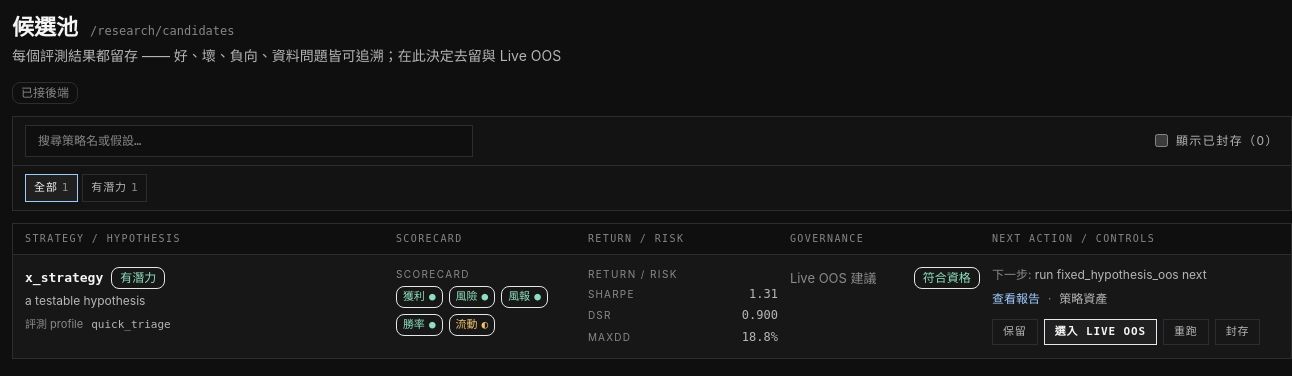
Scenario: CandidatePoolPage — api mode (real mutations) › eligible Select Live OOS → POST /select-live-oos {override:false} without a reason dialog
The width and height of the screenshot is (1292, 376).
Expected: the heading "x_strategy" is shown, [25,269,103,288]
Click the button "選入 Live OOS" at (1100, 332), box [1044,319,1157,345]
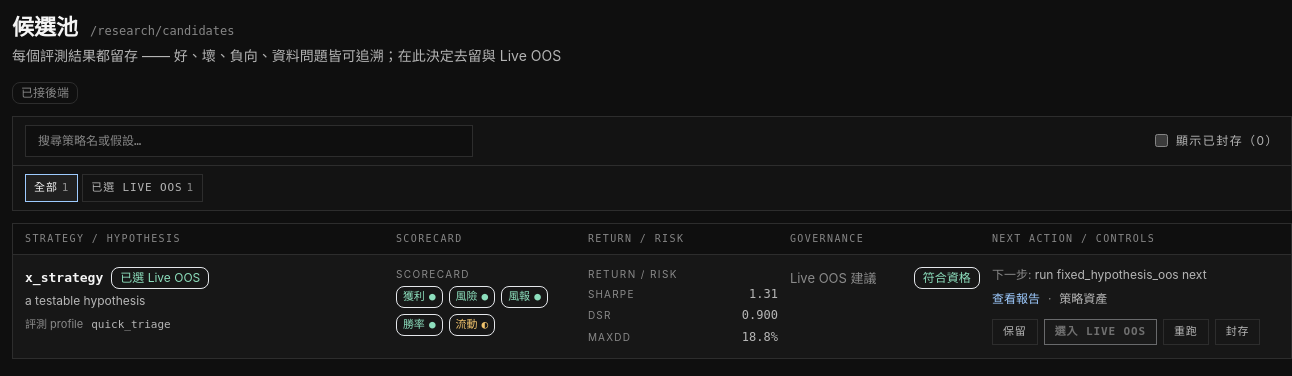
Now the 1st text "已選 Live OOS" is shown, box [91,180,183,196]
